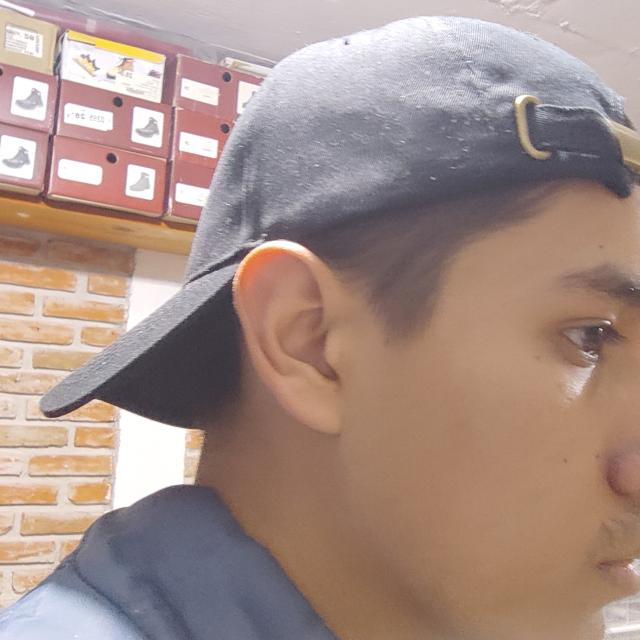ear: (232, 240, 358, 435)
